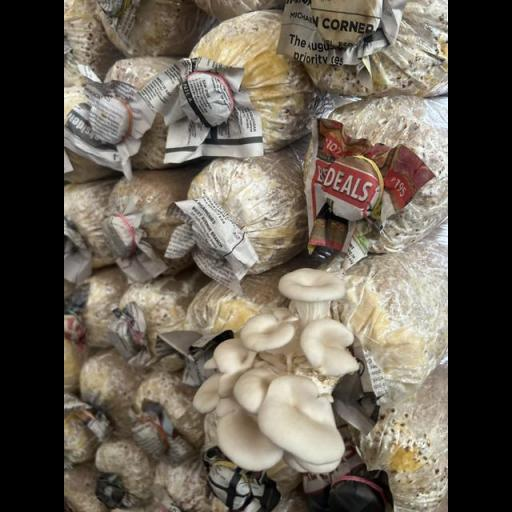White Oyster Mushroom: (190, 262, 367, 494)
